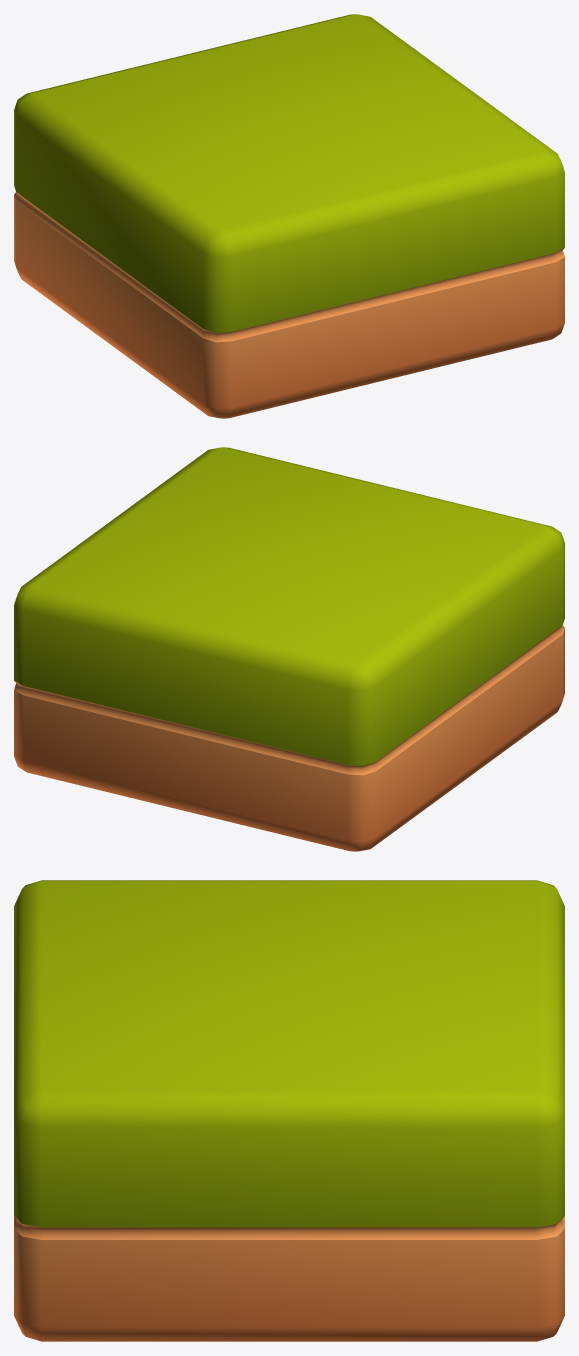
The model's file is 3D_Tile_Ground_01A.glb.
3 renders of one model, top to bottom at view 1: azimuth 30°, elevation 25°; view 2: azimuth 150°, elevation 25°; view 3: azimuth 270°, elevation 25°, orthographic. The views are drawn at different scales.
Visible parts, largest first — view 1: 3D_Tile_Ground_01A; view 2: 3D_Tile_Ground_01A; view 3: 3D_Tile_Ground_01A.
Boxes of the visible parts, left/top/right/bottom form: 3D_Tile_Ground_01A: left=14, top=14, right=564, bottom=418; 3D_Tile_Ground_01A: left=14, top=447, right=564, bottom=851; 3D_Tile_Ground_01A: left=14, top=880, right=564, bottom=1341.
Size of the model in its own units: 2 by 1 by 2.
Materials: 1 (1 with a texture image).
